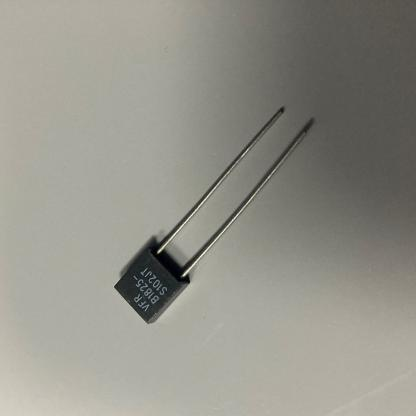SP0000007: (67, 66, 356, 351)
